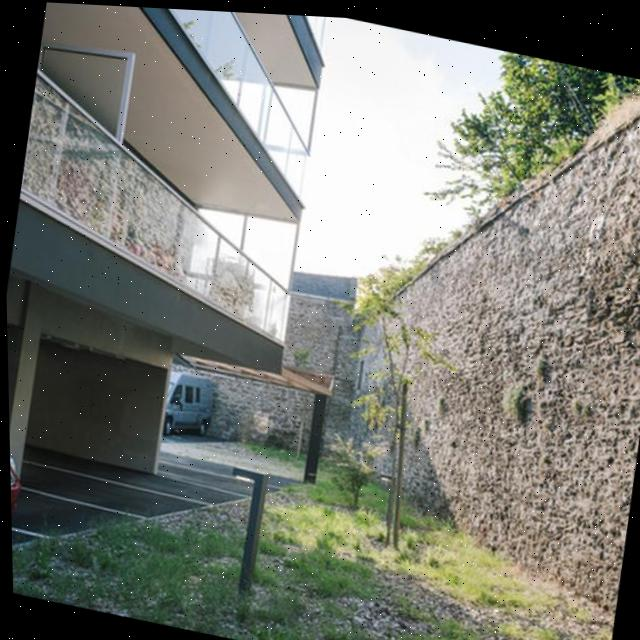building: (0, 0, 339, 502)
